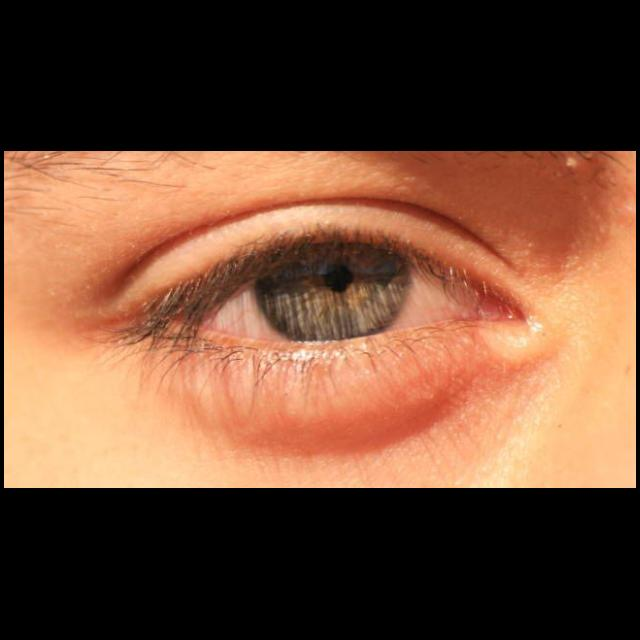eye: (195, 251, 479, 341)
iris: (257, 256, 410, 336)
